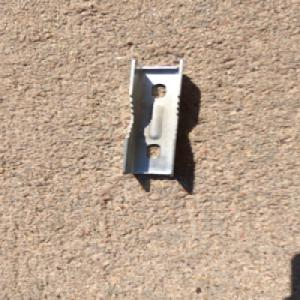ClampPart: (118, 58, 188, 179)
